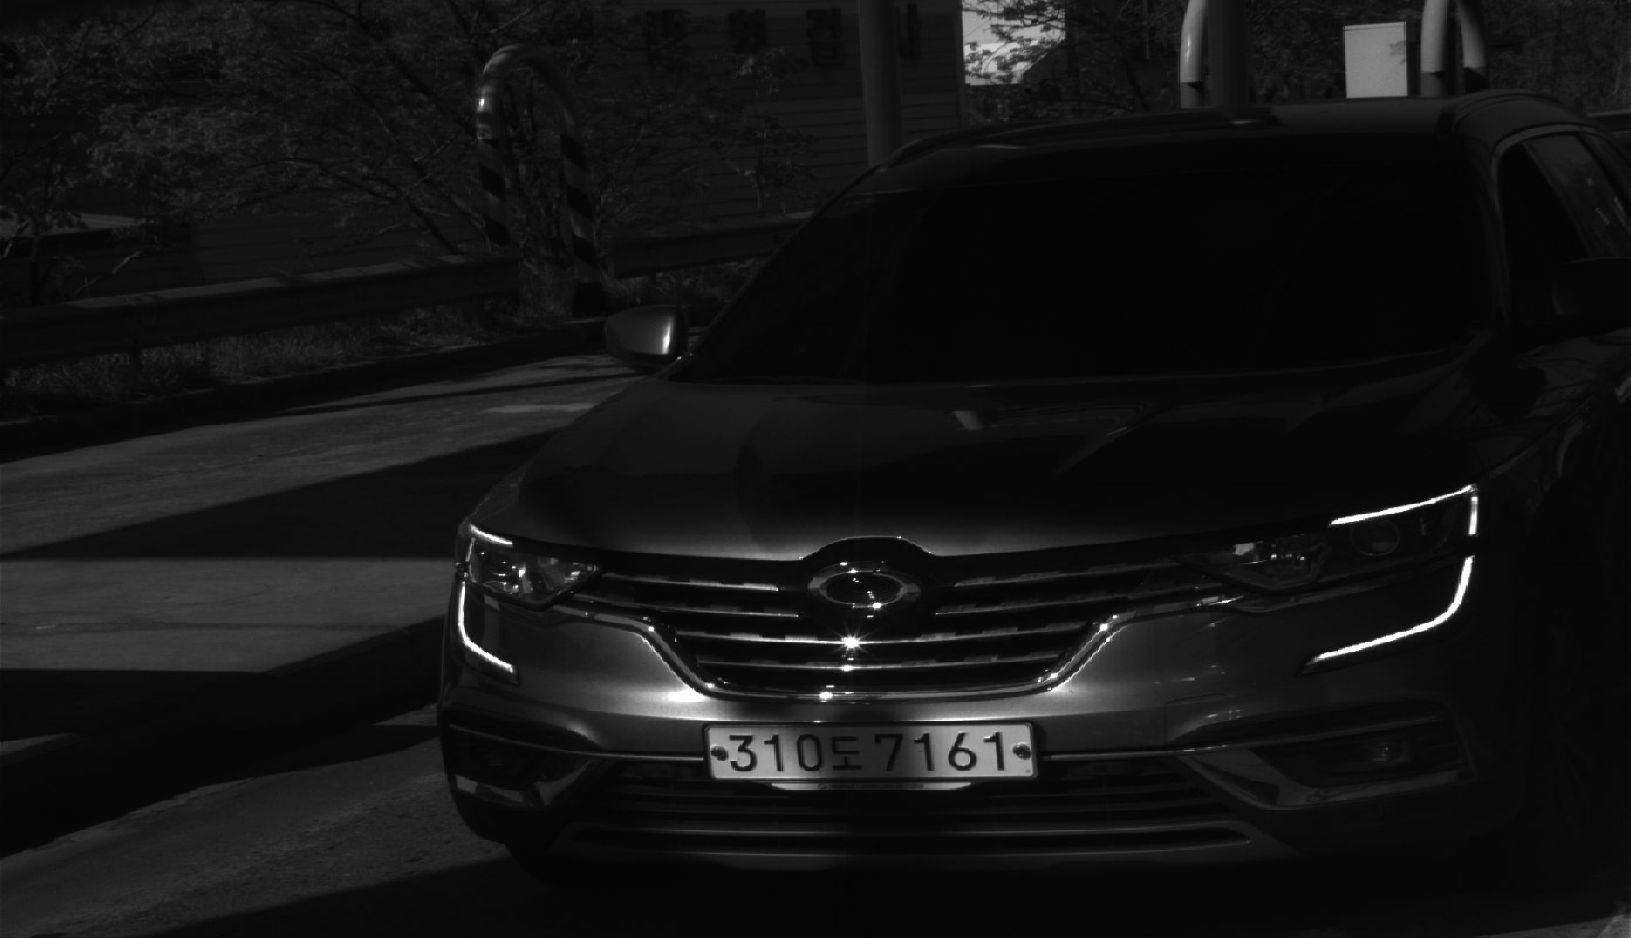car: (433, 93, 1631, 891)
plate: (701, 720, 1041, 783)
